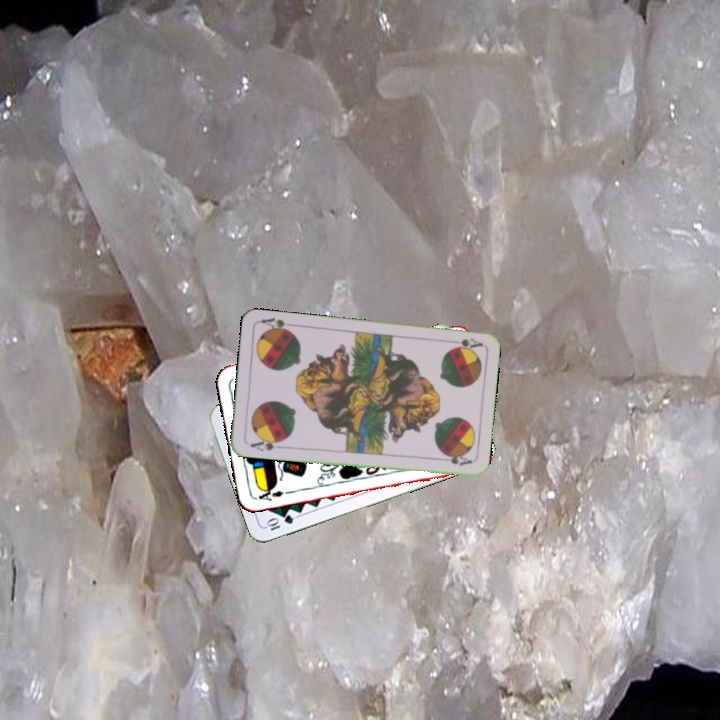EA: (251, 483, 286, 503)
G10: (262, 511, 296, 533)
SA: (246, 434, 286, 454), (444, 334, 484, 353)
